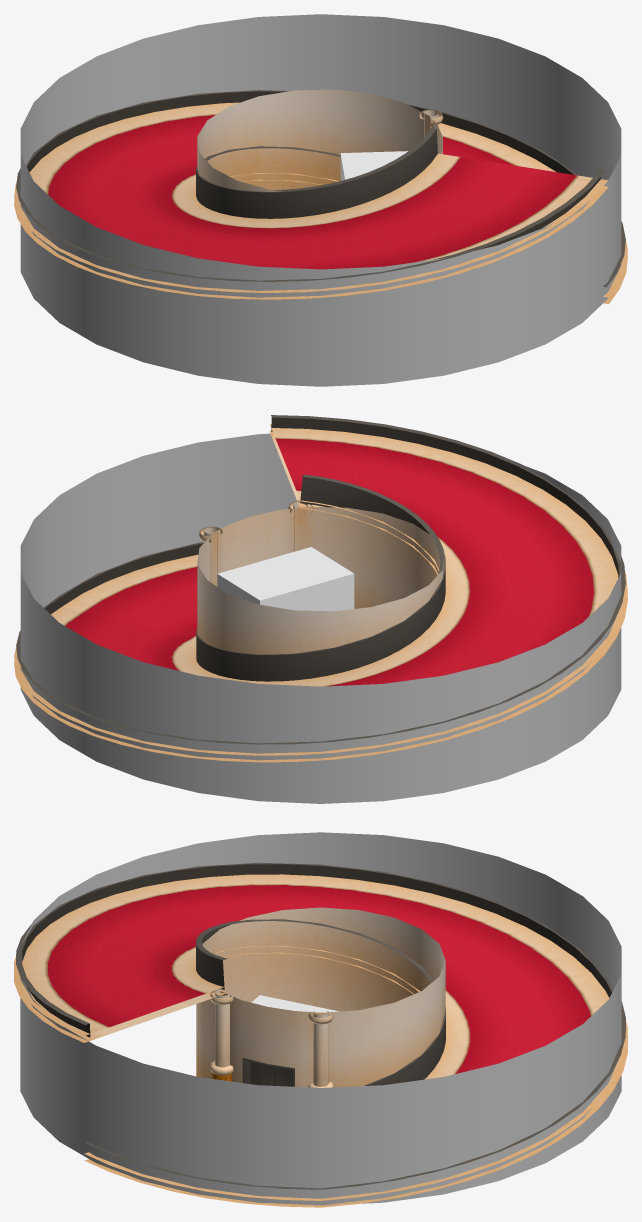
Rendered from stage2_re.fbx.
3 renders of one model, top to bottom at view 1: azimuth 30°, elevation 25°; view 2: azimuth 150°, elevation 25°; view 3: azimuth 270°, elevation 25°, orthographic.
Parts seen in each view (by area): view 1: glassWall, polySurface7, polySurface34, polySurface3, wallParts_in, wallParts_out, polySurface8, polySurface41; view 2: glassWall, polySurface7, polySurface34, wallParts_in, polySurface3, wallParts_out, polySurface41, polySurface8; view 3: glassWall, polySurface7, polySurface34, wallParts_out, polySurface3, polySurface8, wallParts_in, pillarParts, pillarParts1, polySurface41, polySurface39.
Boxes of the visible parts, x1,y1,x2,y2 form: glassWall: (20,14,621,386); polySurface7: (14,102,627,297); polySurface34: (197,89,442,192); polySurface3: (152,153,478,235); wallParts_in: (196,128,437,218); wallParts_out: (16,90,625,287); polySurface8: (14,186,627,304); polySurface41: (340,151,407,180); glassWall: (20,433,621,803); polySurface7: (14,424,627,755); polySurface34: (197,506,444,654); wallParts_in: (196,474,445,681); polySurface3: (152,482,489,686); wallParts_out: (16,415,625,744); polySurface41: (217,547,354,611); polySurface8: (14,431,627,762); glassWall: (20,832,621,1205); polySurface7: (14,874,627,1200); polySurface34: (196,907,445,1087); wallParts_out: (16,862,625,1189); polySurface3: (152,936,489,1079); polySurface8: (14,975,627,1207); wallParts_in: (196,919,445,1085); pillarParts: (313,1011,328,1086); pillarParts1: (215,989,229,1067); polySurface41: (251,995,339,1012); polySurface39: (250,1062,274,1085).
Bounding box in the file's own units: 54.11 × 14.56 × 54.01.
